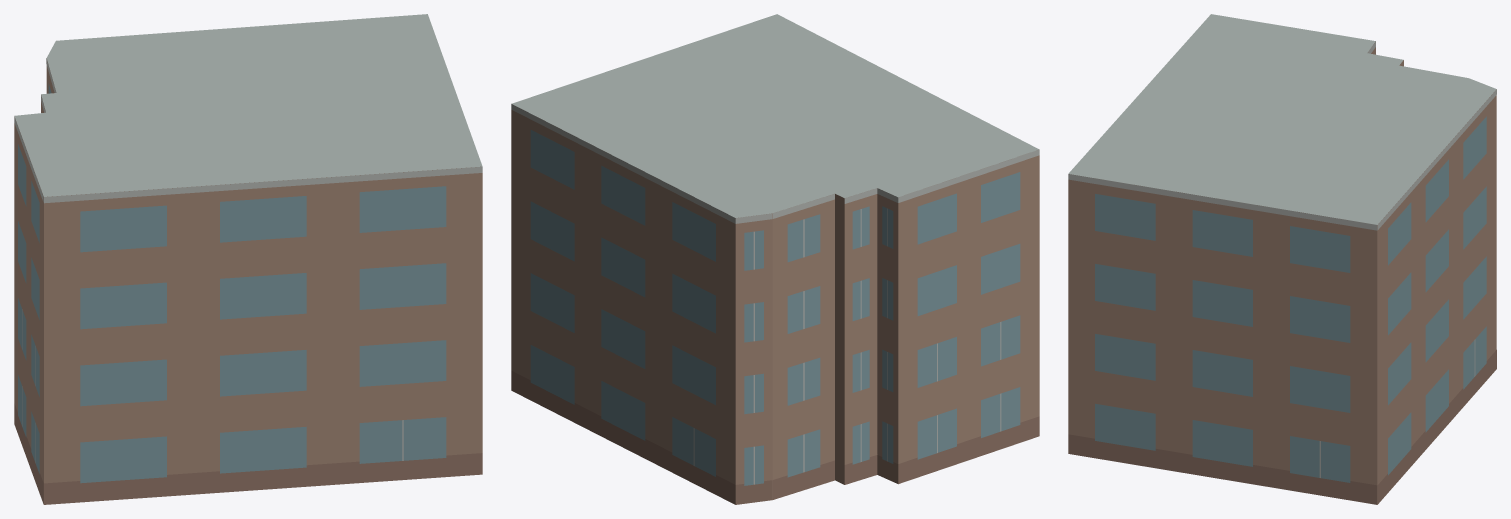
The model's file is survey-upis-32497054.glb.
3 renders of one model, left to right at view 1: azimuth 30°, elevation 25°; view 2: azimuth 150°, elevation 25°; view 3: azimuth 270°, elevation 25°, orthographic. The views are drawn at different scales.
Visible parts, largest first — view 1: survey-upis-32497054.tmp; view 2: survey-upis-32497054.tmp; view 3: survey-upis-32497054.tmp.
Part boxes in pixels (x1,y1,x2,y2): survey-upis-32497054.tmp: (14, 14, 482, 504); survey-upis-32497054.tmp: (511, 14, 1039, 504); survey-upis-32497054.tmp: (1068, 14, 1496, 504).
Bounding box in the file's own units: 19.4 × 12 × 16.66.
